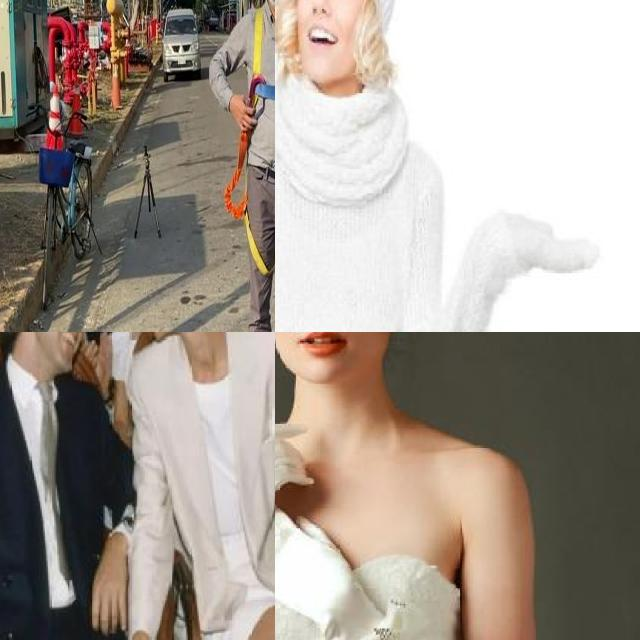Harness: (224, 132, 275, 277), (250, 7, 275, 107)
face_nomask: (287, 0, 376, 87), (275, 332, 388, 384), (29, 332, 90, 374)
hand_glove: (275, 500, 365, 636), (506, 203, 604, 284), (275, 420, 320, 545)
hand_noglove: (88, 562, 129, 638), (98, 332, 114, 386), (82, 334, 100, 368)
person: (275, 0, 601, 332), (275, 332, 572, 640), (106, 332, 275, 640), (0, 332, 157, 640)
